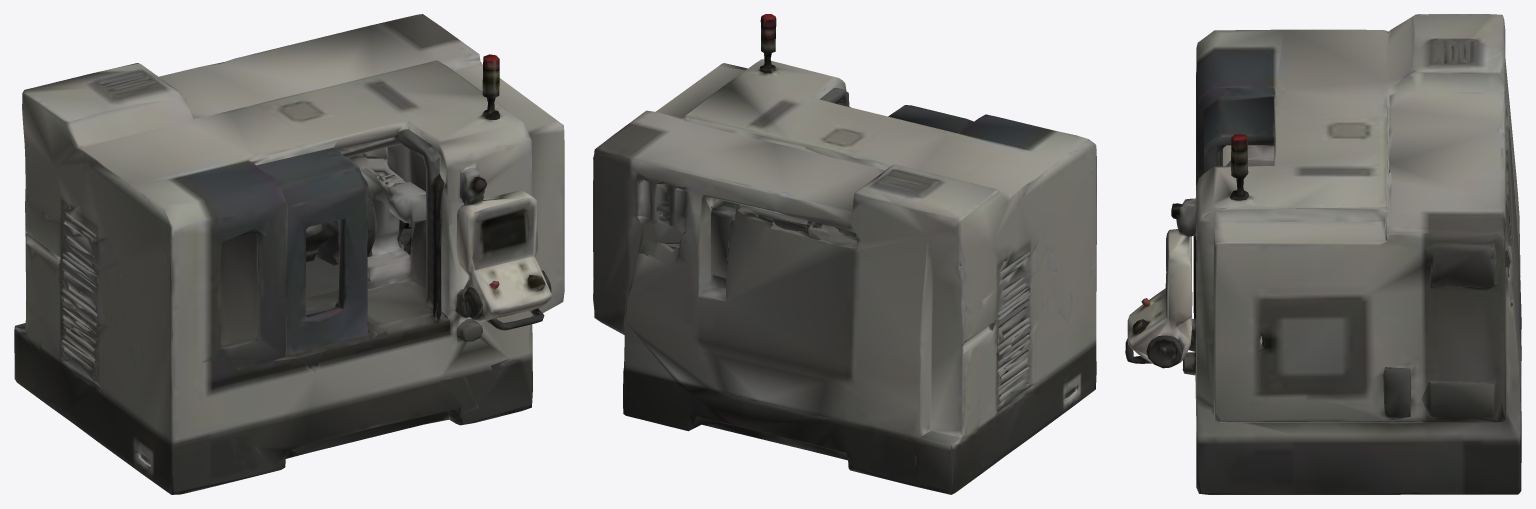
Rendered from cnc_lathe.glb.
The picture shows the model from 3 angles, left to right: view 1: azimuth 30°, elevation 25°; view 2: azimuth 150°, elevation 25°; view 3: azimuth 270°, elevation 25°; orthographic projection. The views are drawn at different scales.
Visible parts, largest first — view 1: geometry_0; view 2: geometry_0; view 3: geometry_0.
Part boxes in pixels (x1=…): geometry_0: x1=14, y1=14, x2=564, y2=494; geometry_0: x1=593, y1=14, x2=1096, y2=494; geometry_0: x1=1125, y1=14, x2=1521, y2=494.
Size of the model in its own units: 1 by 0.8034 by 0.8273.
Materials: 1 (1 with a texture image).
